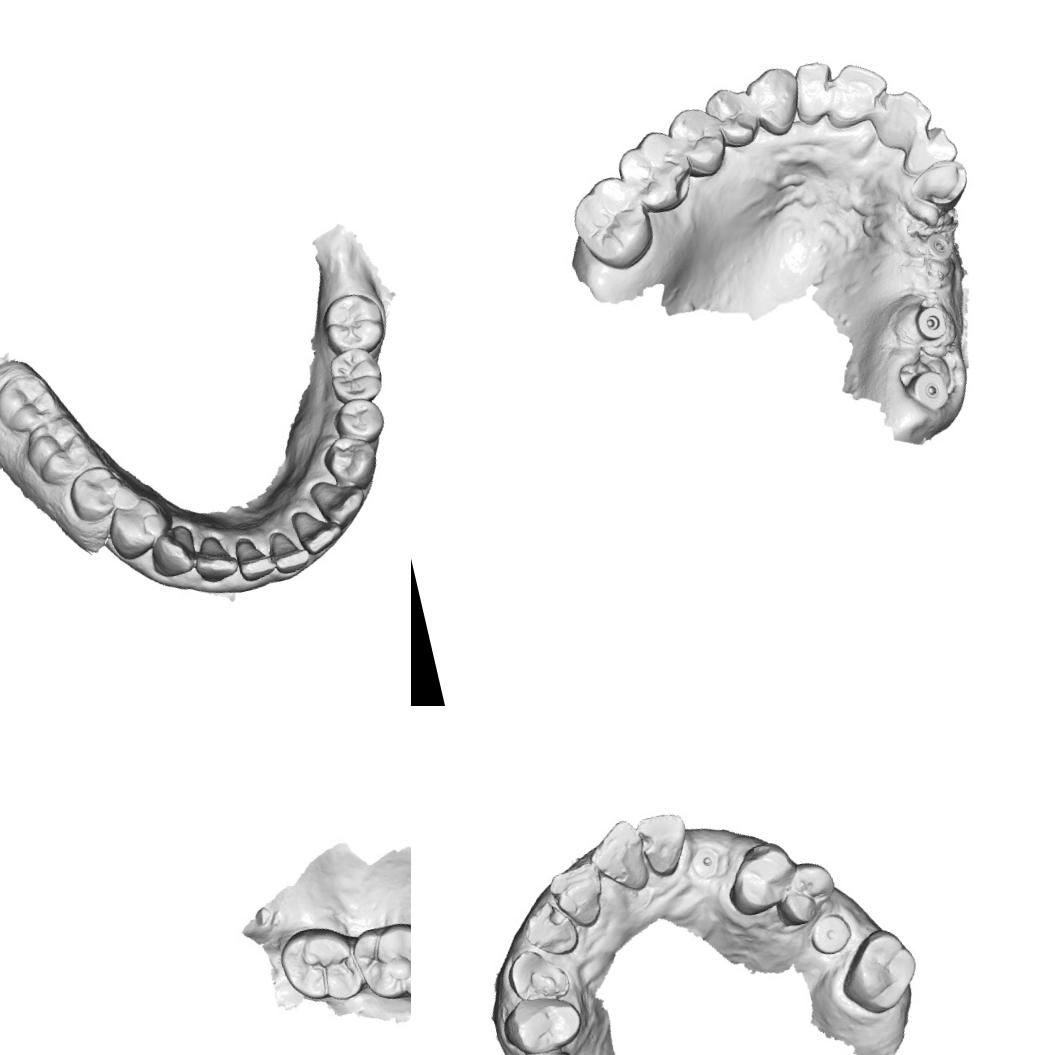canine: (741, 61, 810, 143), (500, 940, 572, 1010), (904, 154, 974, 213), (144, 519, 204, 583), (308, 472, 370, 529)
implant: (802, 908, 856, 960), (904, 365, 952, 416), (686, 836, 736, 884), (911, 301, 952, 345), (923, 227, 958, 265)
incisor: (582, 815, 654, 900), (820, 56, 895, 132), (543, 858, 613, 934), (517, 893, 584, 965), (633, 807, 696, 882), (869, 85, 938, 152), (893, 121, 962, 179), (788, 55, 843, 126), (288, 501, 348, 560), (189, 534, 239, 586), (264, 525, 314, 577), (230, 534, 275, 586)
molar: (564, 168, 661, 279), (829, 921, 926, 1022), (274, 917, 366, 1014), (609, 123, 700, 221), (19, 411, 100, 491), (349, 914, 411, 1005), (317, 286, 387, 357), (0, 364, 66, 439), (324, 340, 390, 411)
premolar: (718, 834, 804, 920), (495, 986, 587, 1055), (663, 101, 733, 184), (767, 856, 843, 930), (102, 494, 173, 564), (62, 460, 132, 528), (700, 81, 763, 156), (318, 430, 384, 494), (330, 395, 391, 447), (506, 1041, 585, 1055)
